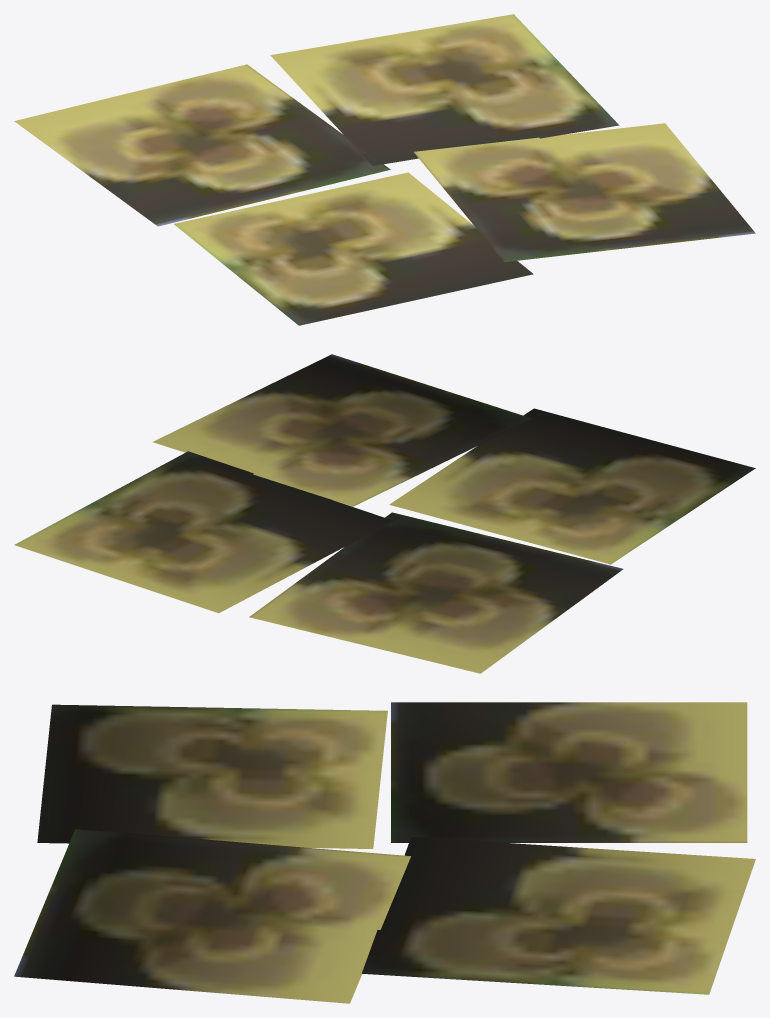
Rendered from fg_grassE.dae.
The picture shows the model from 3 angles, top to bottom: view 1: azimuth 30°, elevation 25°; view 2: azimuth 150°, elevation 25°; view 3: azimuth 270°, elevation 25°; orthographic projection. The views are drawn at different scales.
Visible parts, largest first — view 1: fg_grassE; view 2: fg_grassE; view 3: fg_grassE.
Boxes of the visible parts, x1=… form: fg_grassE: x1=14, y1=14, x2=755, y2=325; fg_grassE: x1=14, y1=354, x2=755, y2=673; fg_grassE: x1=14, y1=702, x2=755, y2=1003.
Size of the model in its own units: 23.5 by 0.3916 by 24.87.
1 material, 1 textured.
